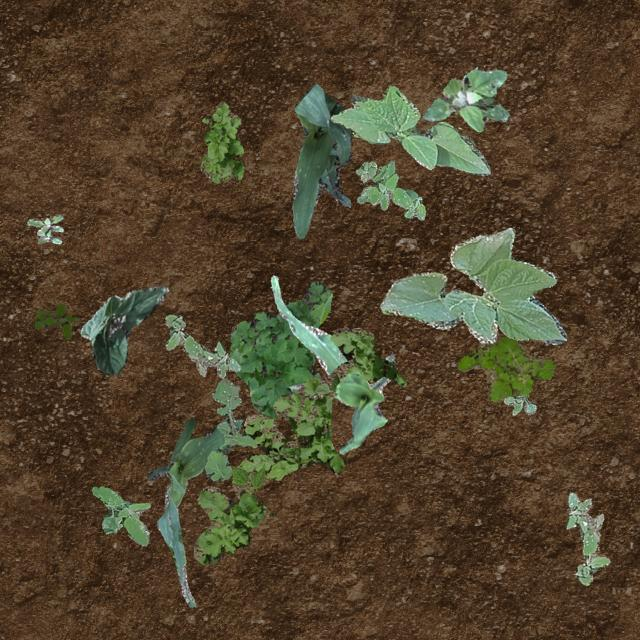crop: (270, 274, 394, 453), (378, 226, 566, 344), (146, 418, 242, 606), (330, 86, 490, 174), (292, 81, 351, 238), (80, 284, 168, 374)
weed: (192, 326, 406, 564), (228, 280, 332, 418), (456, 336, 554, 402), (422, 66, 508, 130), (204, 378, 256, 480), (164, 314, 240, 378), (354, 160, 424, 218), (564, 492, 608, 584), (200, 100, 243, 182), (90, 486, 148, 544), (32, 302, 80, 338), (27, 214, 62, 242), (502, 394, 536, 414)
